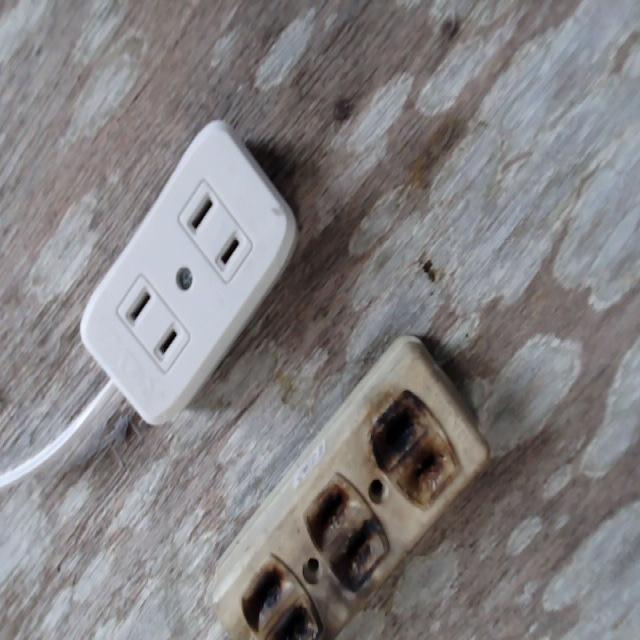-: (239, 384, 462, 636)
